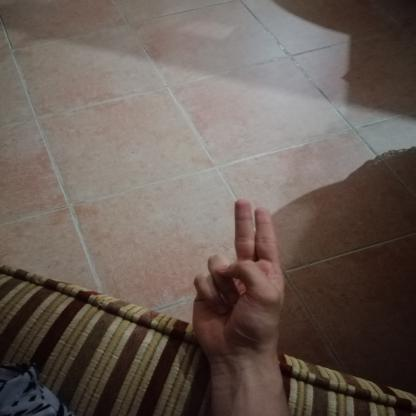TA: (176, 190, 294, 376)
